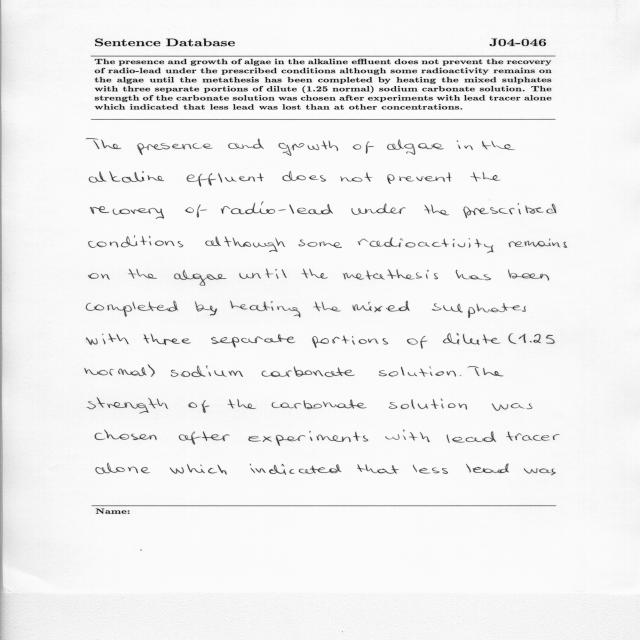word: (358, 238, 494, 253), (249, 431, 369, 446), (86, 301, 178, 317), (221, 202, 333, 215), (432, 303, 526, 318), (464, 203, 557, 218), (87, 397, 168, 414), (206, 236, 286, 252), (89, 236, 183, 248), (230, 301, 300, 317), (212, 335, 296, 348), (187, 173, 264, 187), (343, 269, 438, 280), (262, 366, 355, 377), (250, 464, 342, 475), (312, 335, 388, 348), (91, 206, 165, 219), (272, 400, 367, 410), (137, 143, 213, 155), (387, 139, 444, 155), (90, 171, 165, 183), (279, 141, 338, 156), (389, 399, 467, 410), (379, 366, 456, 377), (174, 270, 226, 286), (171, 366, 243, 377), (387, 172, 452, 184), (179, 431, 230, 445), (443, 333, 501, 345), (352, 203, 406, 215), (352, 301, 410, 312), (170, 464, 227, 475), (95, 430, 157, 440), (96, 463, 150, 474), (447, 431, 496, 443), (85, 367, 146, 376), (385, 430, 430, 442), (509, 239, 568, 248), (507, 431, 560, 441), (144, 334, 191, 345), (86, 333, 129, 345), (283, 171, 326, 182), (240, 269, 287, 279), (508, 270, 549, 281), (466, 464, 509, 474), (357, 464, 399, 474), (298, 239, 342, 248), (87, 138, 122, 149), (228, 139, 264, 149), (519, 334, 555, 344), (468, 366, 504, 376), (456, 270, 491, 280), (413, 464, 448, 474), (195, 301, 217, 316), (492, 403, 533, 411), (471, 172, 501, 182), (482, 141, 515, 150), (128, 269, 157, 279), (341, 173, 373, 182), (185, 205, 207, 218), (313, 302, 341, 312), (228, 399, 256, 409), (424, 205, 449, 216), (189, 400, 210, 413), (301, 269, 328, 279), (407, 336, 427, 349), (353, 142, 374, 154), (524, 469, 556, 476), (457, 140, 473, 150), (89, 273, 110, 280), (509, 333, 517, 344), (148, 365, 155, 377), (460, 375, 461, 376)
